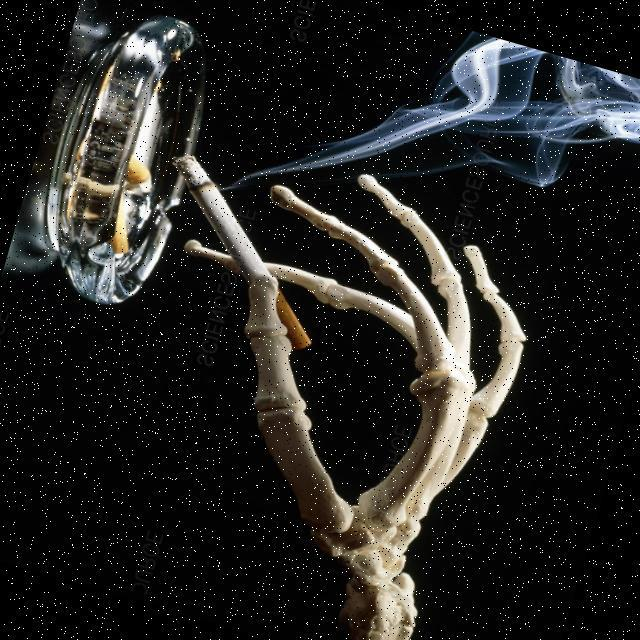cigarette: (133, 144, 344, 341)
